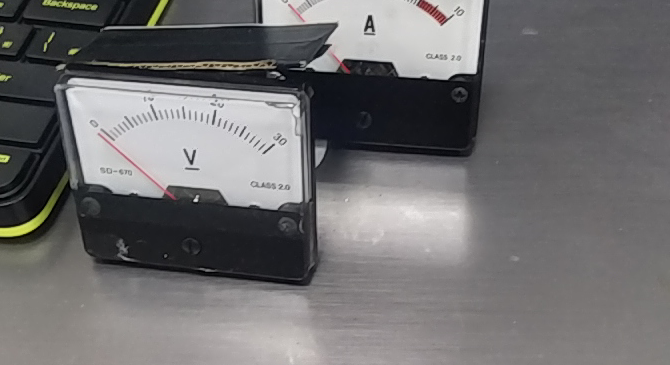Amp_Meter: (255, 1, 484, 82)
Volt_Meter: (62, 71, 312, 217)
